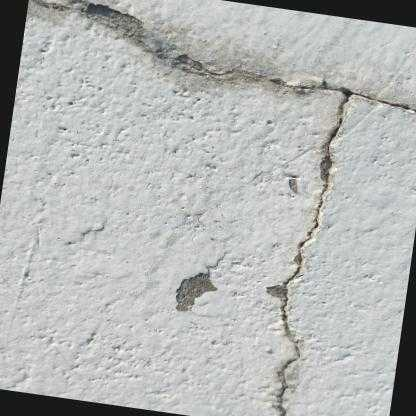crack: (30, 0, 416, 416)
